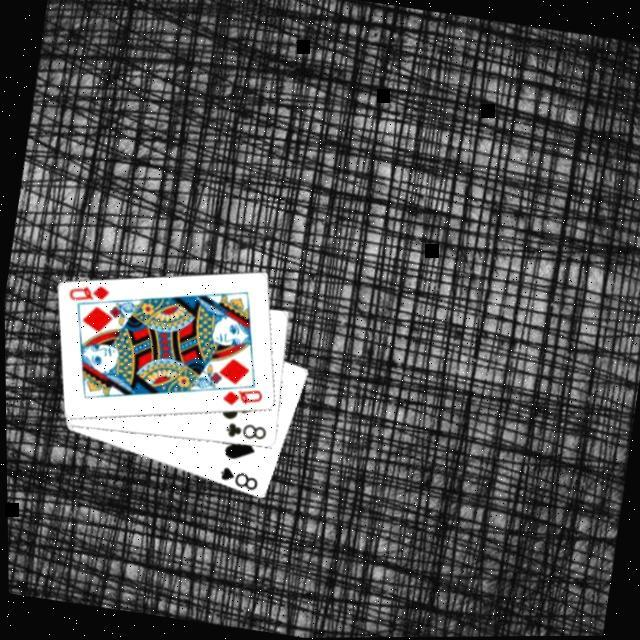8C: (221, 415, 270, 444)
8S: (214, 462, 262, 493)
QD: (66, 276, 114, 308), (218, 380, 266, 411)
